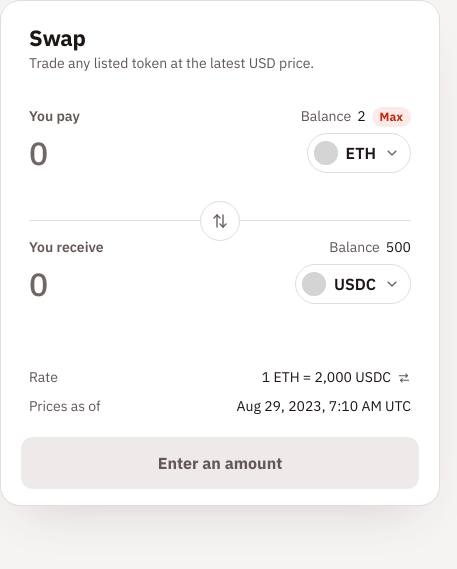
Test: SwapForm › quotes in both directions
This screenshot has width=457, height=569.
In the field labelled "You pay": (162,153) [29, 133, 295, 173], type "1.5"
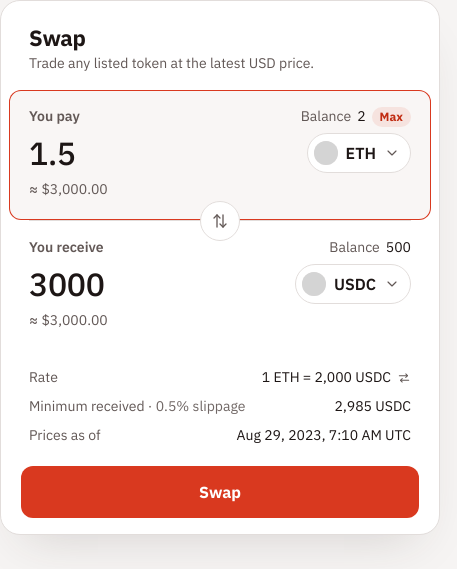
Expected: the text "≈ $3,000.00" is shown 2 times, [29, 180, 108, 198]; [29, 311, 108, 329]
Expected: the field labelled "You receive" holds "3000"
Replace the text in the field labelled "You receive" with "500": (156,284) [29, 264, 283, 304]
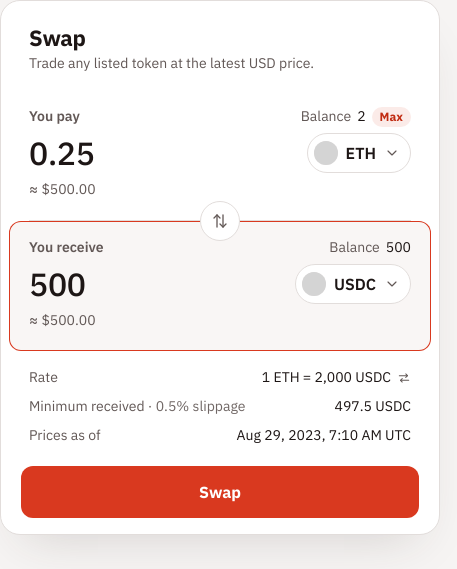
Expected: the field labelled "You pay" holds "0.25", [29, 133, 295, 173]
